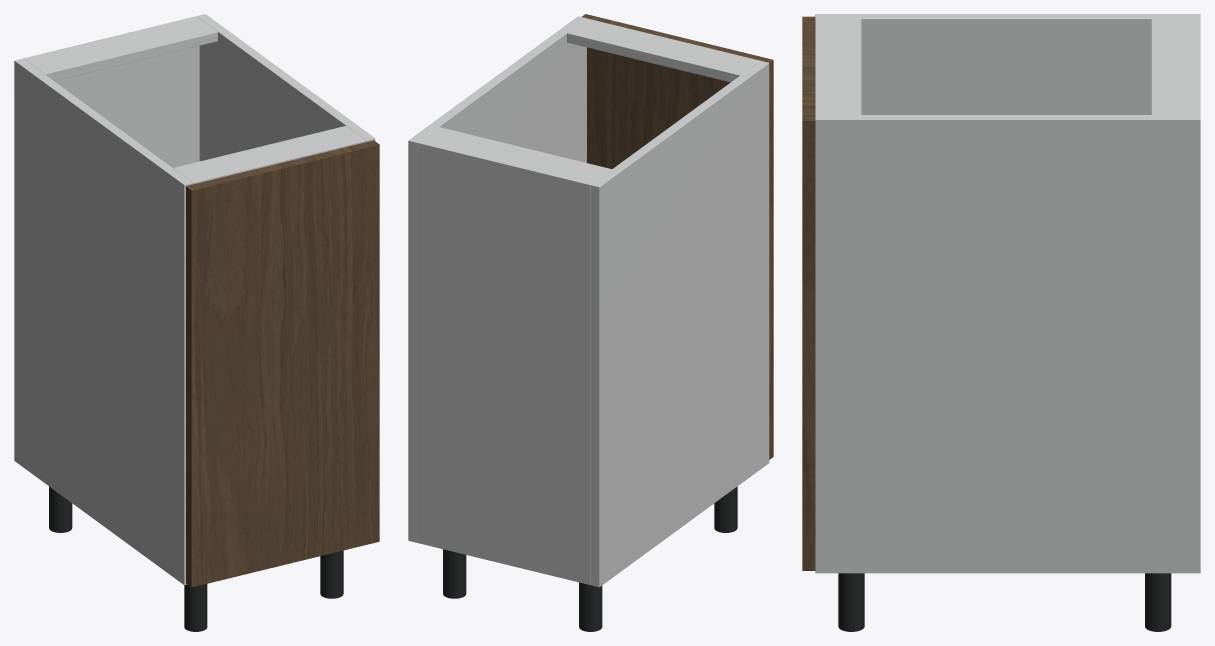
File: oppein-pb-mso-b15fh.glb
3 views of the same model, side by side, from view 1: azimuth 30°, elevation 25°; view 2: azimuth 150°, elevation 25°; view 3: azimuth 270°, elevation 25° (orthographic). The views are drawn at different scales.
Visible parts, largest first — view 1: Door, Cabinet side, Cabinet side.001, Cabinet back, Top support rail, Top support rail.001, Adjustable foot.001, Adjustable foot.003, Adjustable foot; view 2: Cabinet side, Cabinet back, Cabinet side.001, Door, Top support rail.001, Top support rail, Cabinet bottom, Adjustable foot, Adjustable foot.002, Adjustable foot.001; view 3: Cabinet side.001, Cabinet side, Door, Top support rail.001, Top support rail, Adjustable foot.002, Adjustable foot.003, Cabinet back.
Part boxes in pixels (x1,y1,x2,y2): Door: [186, 140, 379, 587]; Cabinet side: [14, 58, 192, 585]; Cabinet side.001: [197, 14, 375, 161]; Cabinet back: [23, 16, 199, 167]; Top support rail: [25, 18, 217, 80]; Top support rail.001: [173, 126, 366, 184]; Adjustable foot.001: [184, 584, 207, 631]; Adjustable foot.003: [320, 550, 343, 598]; Adjustable foot: [49, 486, 72, 532]; Cabinet side: [590, 60, 769, 587]; Cabinet back: [417, 140, 593, 584]; Cabinet side.001: [408, 16, 586, 542]; Door: [582, 14, 773, 459]; Top support rail.001: [567, 18, 759, 82]; Top support rail: [421, 127, 611, 182]; Cabinet bottom: [417, 538, 590, 584]; Adjustable foot: [579, 582, 602, 631]; Adjustable foot.002: [443, 549, 466, 598]; Adjustable foot.001: [714, 486, 737, 532]; Cabinet side.001: [815, 115, 1200, 573]; Cabinet side: [815, 14, 1200, 114]; Door: [802, 16, 815, 570]; Top support rail.001: [815, 19, 861, 114]; Top support rail: [1151, 19, 1193, 114]; Adjustable foot.002: [1145, 573, 1171, 631]; Adjustable foot.003: [838, 573, 864, 631]; Cabinet back: [1193, 19, 1200, 114].
Bounding box in the file's own units: 0.381 × 0.8763 × 0.6064.
Materials: 3 (1 with a texture image).
